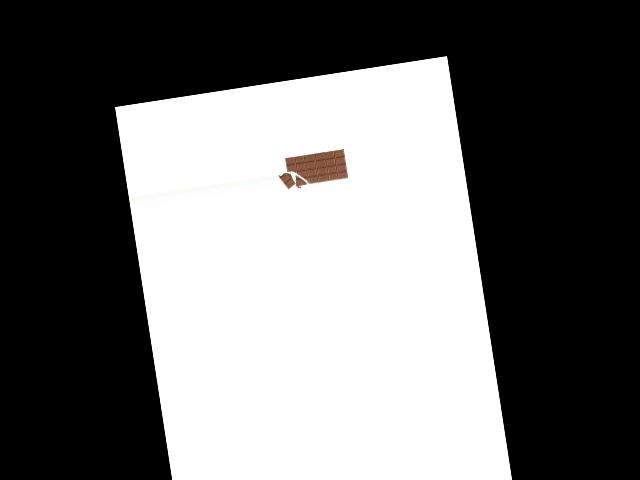chocolate: (275, 144, 350, 197)
